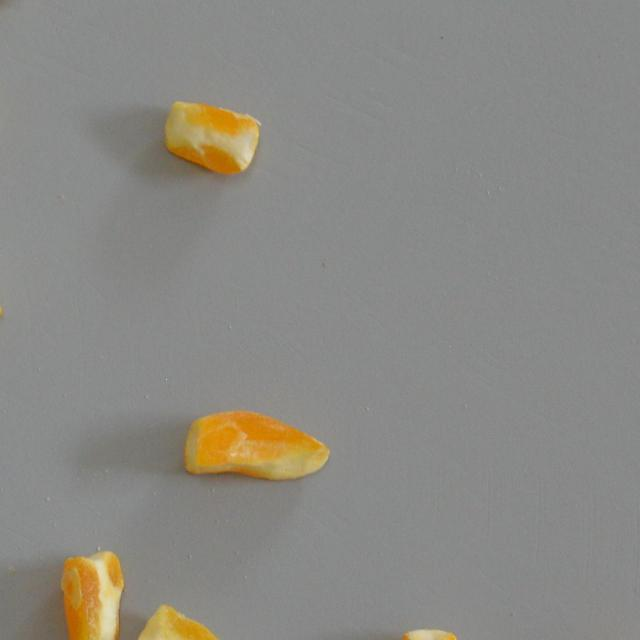pelicula: (182, 401, 332, 484), (161, 84, 263, 180), (48, 535, 130, 640), (123, 600, 230, 640), (389, 616, 472, 640)
